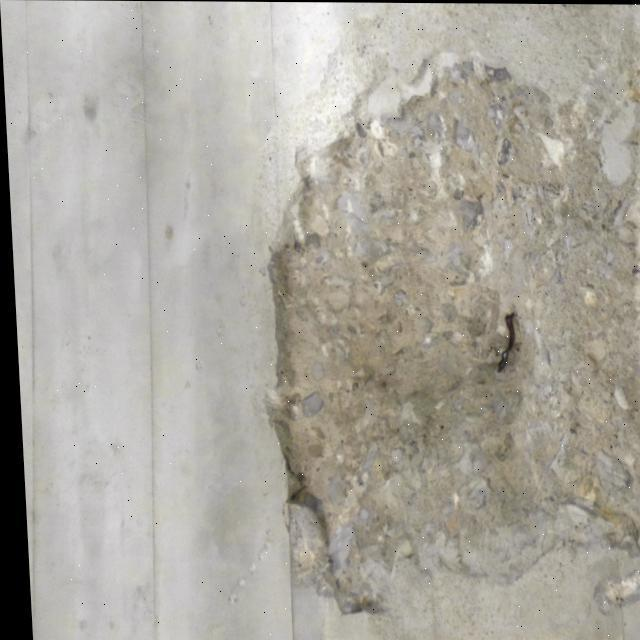D10: (266, 60, 639, 617)
